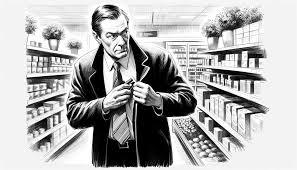shoplifting: (73, 57, 197, 154)
